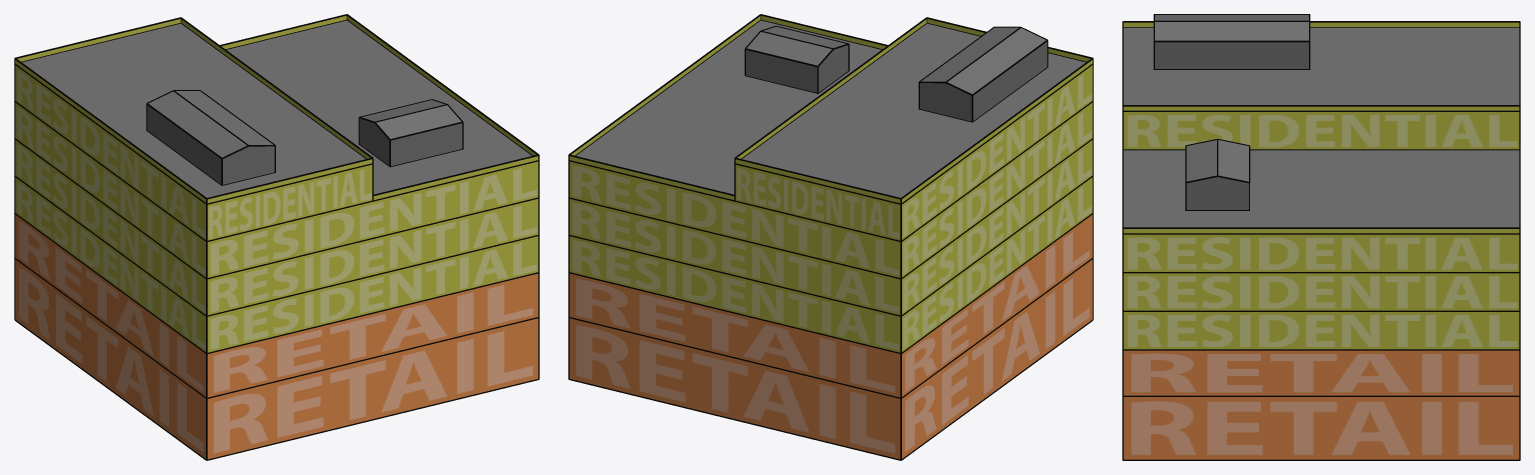
The picture shows the model from 3 angles, left to right: view 1: azimuth 30°, elevation 25°; view 2: azimuth 150°, elevation 25°; view 3: azimuth 270°, elevation 25°; orthographic projection. The views are drawn at different scales.
Parts seen in each view (by area): view 1: residential_diagrammatic2, retail_diagrammatic2, floor_slabs_2, black_outline; view 2: residential_diagrammatic2, retail_diagrammatic2, floor_slabs_2, black_outline; view 3: residential_diagrammatic2, floor_slabs_2, retail_diagrammatic2, black_outline.
Part boxes in pixels (<box>): residential_diagrammatic2: <box>15,15,538,352</box>; retail_diagrammatic2: <box>15,214,538,459</box>; floor_slabs_2: <box>22,20,531,197</box>; black_outline: <box>14,14,539,460</box>; residential_diagrammatic2: <box>569,15,1092,352</box>; retail_diagrammatic2: <box>569,214,1092,459</box>; floor_slabs_2: <box>576,20,1085,197</box>; black_outline: <box>568,14,1093,460</box>; residential_diagrammatic2: <box>1123,22,1519,349</box>; floor_slabs_2: <box>1123,15,1519,227</box>; retail_diagrammatic2: <box>1123,350,1519,459</box>; black_outline: <box>1122,14,1520,460</box>.
Size of the model in its own units: 32.68 by 27.24 by 32.68.
